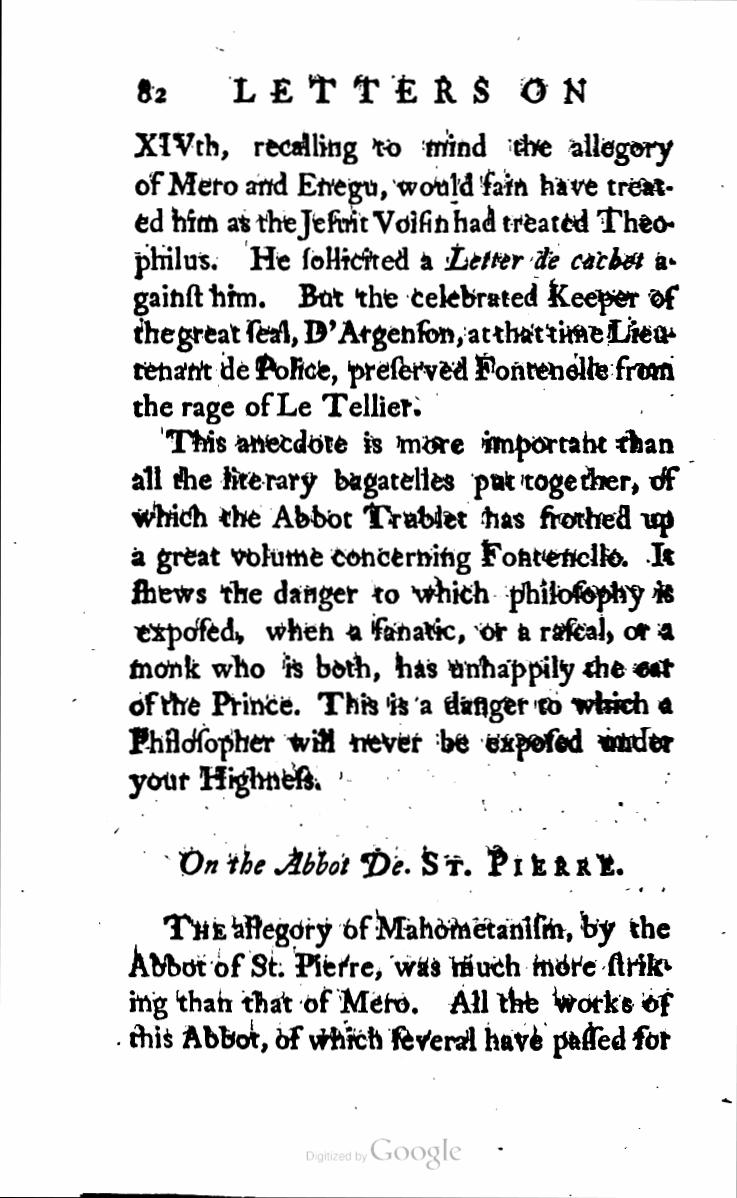bottom_p: (132, 130, 678, 427)
full_p: (128, 427, 677, 803), (182, 842, 633, 892)
header: (233, 75, 592, 113)
page_num: (130, 77, 175, 113)
top_p: (125, 912, 673, 1055)
